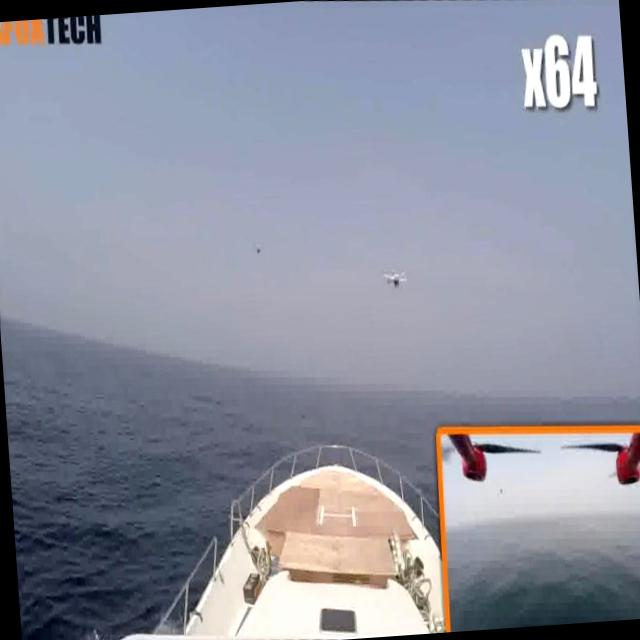drone: (383, 264, 408, 291)
